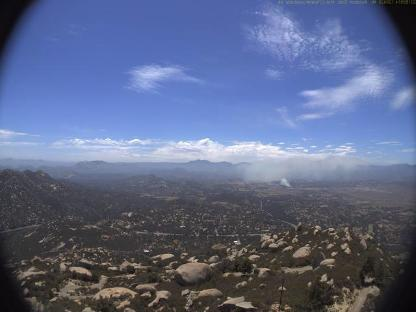smoke: (243, 154, 371, 189)
